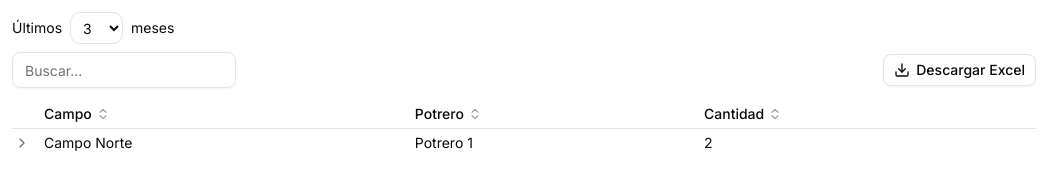
it: HealthByPlaceTable › reloads the table when the months selector changes
The width and height of the screenshot is (1048, 174).
Select "6" in the dropdown labelled "Últimos" at (96, 28), box left=70, top=12, right=123, bottom=44
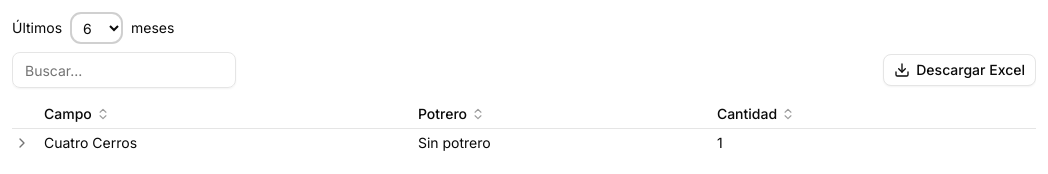
Expected: the text "Cuatro Cerros" is shown, left=44, top=128, right=418, bottom=157
